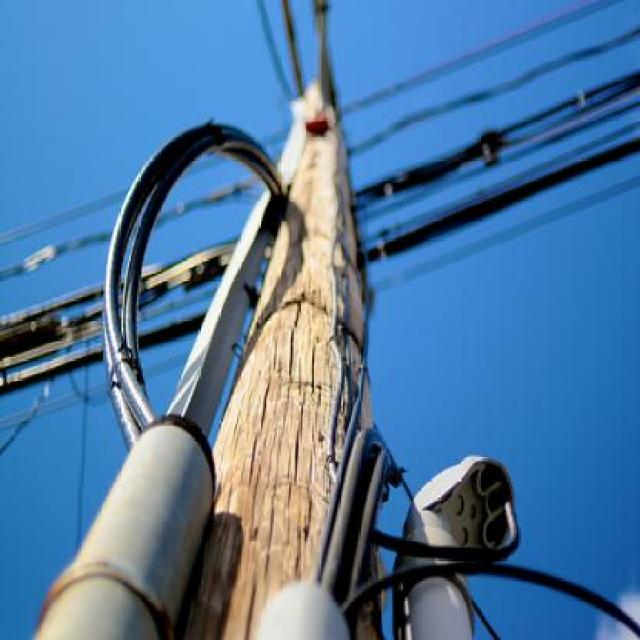pole: (208, 14, 378, 640)
